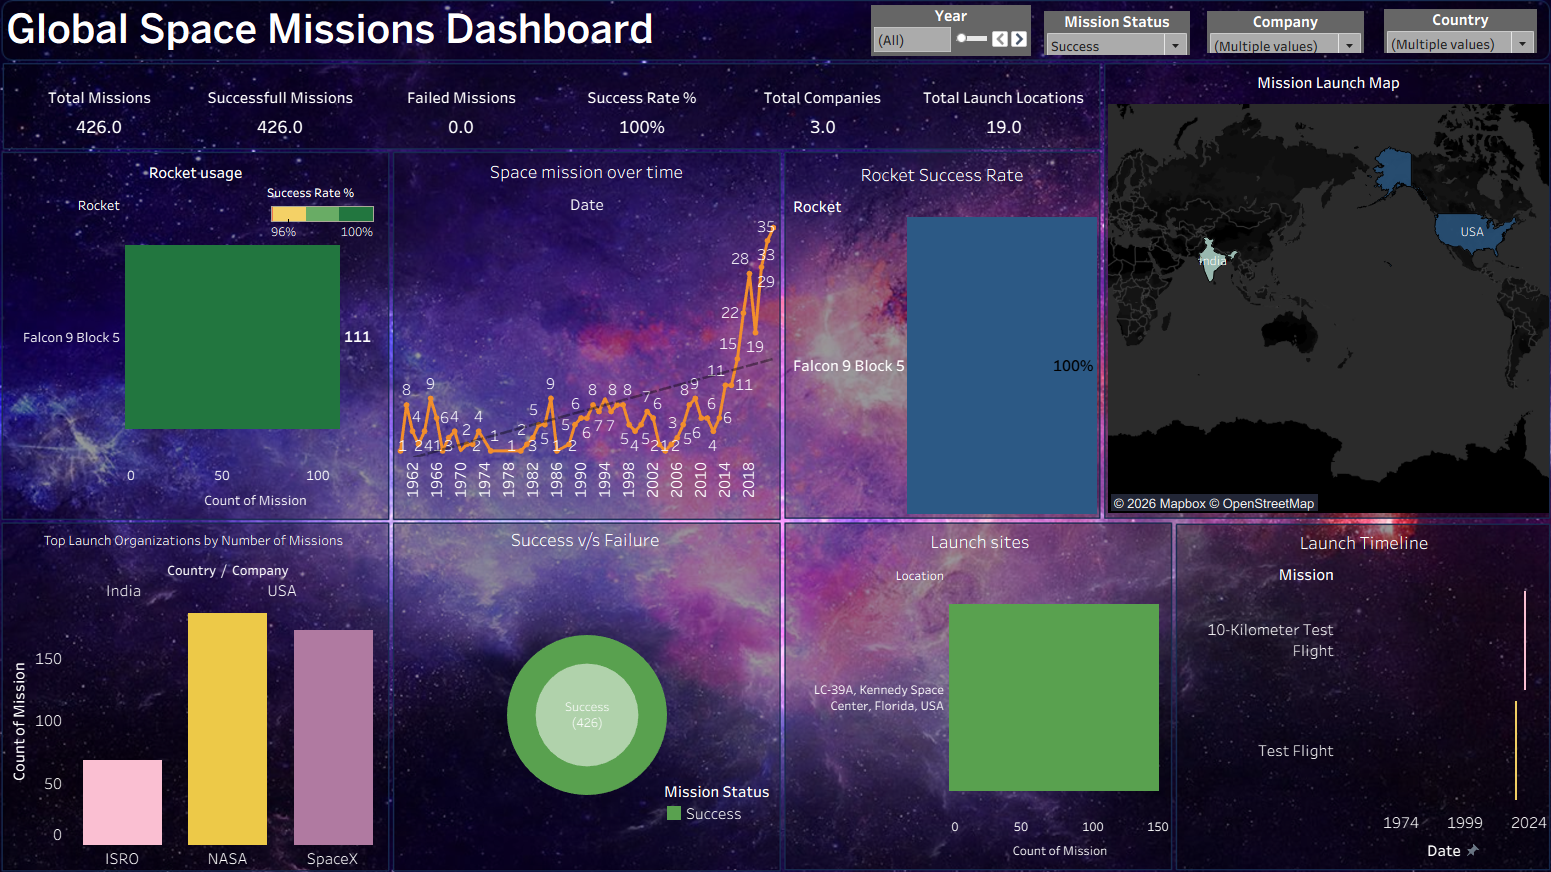

This screenshot's page, from the dashboard's own definition file:
{"tool":"tableau","page":{"name":"Space mission dashboard","canvas":[1580,900],"ordinal":0},"visuals":[{"type":"image","param":"Image/space background.png","box":[8,8,1564,884]},{"type":"filter","title":"Filters","param":"[federated.16n310l1mkbzr01efwcor0iu8qdv].[yr:Date:ok]","box":[885,17,160,51]},{"type":"text","box":[17,21,664,41]},{"type":"filter","title":"Filters","param":"[federated.16n310l1mkbzr01efwcor0iu8qdv].[none:Calculation_0682570195472391:nk]","box":[1398,21,153,44]},{"type":"filter","title":"Filters","param":"[federated.16n310l1mkbzr01efwcor0iu8qdv].[none:MissionStatus:nk]","box":[1058,23,146,44]},{"type":"filter","title":"Filters","param":"[federated.16n310l1mkbzr01efwcor0iu8qdv].[none:Company:nk]","box":[1221,23,157,42]},{"type":"worksheet","title":"KPI Cards","mark":"Text","box":[23,80,1085,77]},{"type":"worksheet","title":"Mission Launch Map","mark":"Automatic","box":[1122,80,441,445]},{"type":"worksheet","title":"Space mission over time","mark":"Automatic","rows":["Mission"],"cols":["Date"],"box":[411,167,379,362]},{"type":"worksheet","title":"Rocket usage","mark":"Automatic","rows":["Rocket"],"cols":["Mission"],"box":[19,170,381,358]},{"type":"worksheet","title":"Rocket Success Rate","mark":"Square","rows":["Rocket"],"box":[801,170,310,356]},{"type":"legend","title":"Rocket usage","param":"[federated.16n310l1mkbzr01efwcor0iu8qdv].[usr:Calculation_0682570191486979:qk]","box":[281,196,111,70]},{"type":"worksheet","title":"Success v/s Failure ","mark":"Pie","rows":["Calculation_0682570200645641","Calculation_0682570200645641"],"box":[411,535,380,345]},{"type":"worksheet","title":"Launch sites","mark":"Automatic","rows":["Location"],"cols":["Mission"],"box":[803,537,382,341]},{"type":"worksheet","title":"Launch Timeline","mark":"GanttBar","rows":["Mission"],"cols":["Date"],"box":[1193,538,370,342]},{"type":"worksheet","title":"Top Launch Organizations by Number of Missions","mark":"Automatic","rows":["Mission"],"cols":["Calculation_0682570195472391","Company"],"box":[15,539,385,343]},{"type":"worksheet","title":"Filters","mark":"Automatic","box":[482,587,64,38]},{"type":"legend","title":"Success v/s Failure ","param":"[federated.16n310l1mkbzr01efwcor0iu8qdv].[none:MissionStatus:nk]","box":[678,793,107,85]}]}

Visuals, with their boxes in screenshot pixels (x1, y1, x2, y2), scaled from the page's 1580x900 canvas onto the 1551x872 screenshot:
image: bbox=(8, 8, 1543, 864)
"Filters" filter: bbox=(869, 16, 1026, 66)
text: bbox=(17, 20, 669, 60)
"Filters" filter: bbox=(1372, 20, 1523, 63)
"Filters" filter: bbox=(1039, 22, 1182, 65)
"Filters" filter: bbox=(1199, 22, 1353, 63)
"KPI Cards" worksheet (Text marks): bbox=(23, 78, 1088, 152)
"Mission Launch Map" worksheet: bbox=(1101, 78, 1534, 509)
"Space mission over time" worksheet: bbox=(403, 162, 776, 513)
"Rocket usage" worksheet: bbox=(19, 165, 393, 512)
"Rocket Success Rate" worksheet (Square marks): bbox=(786, 165, 1091, 510)
"Rocket usage" legend: bbox=(276, 190, 385, 258)
"Success v/s Failure " worksheet (Pie marks): bbox=(403, 518, 776, 853)
"Launch sites" worksheet: bbox=(788, 520, 1163, 851)
"Launch Timeline" worksheet (GanttBar marks): bbox=(1171, 521, 1534, 853)
"Top Launch Organizations by Number of Missions" worksheet: bbox=(15, 522, 393, 855)
"Filters" worksheet: bbox=(473, 569, 536, 606)
"Success v/s Failure " legend: bbox=(666, 768, 771, 851)
